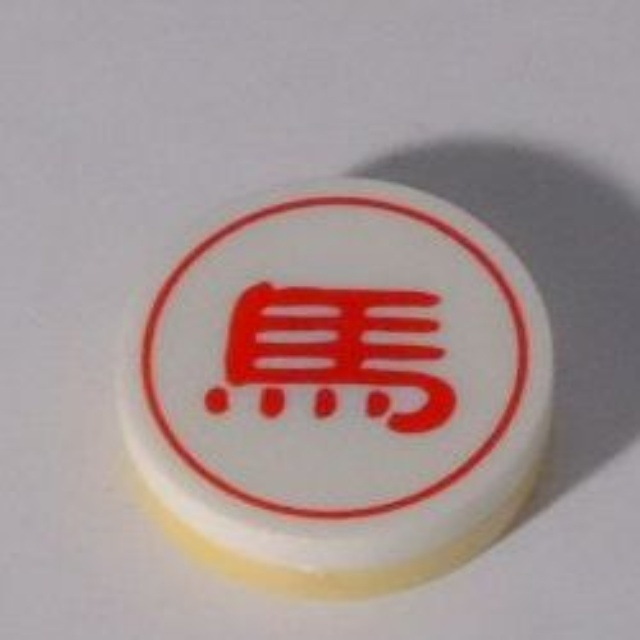red_ma: (104, 168, 569, 601)
